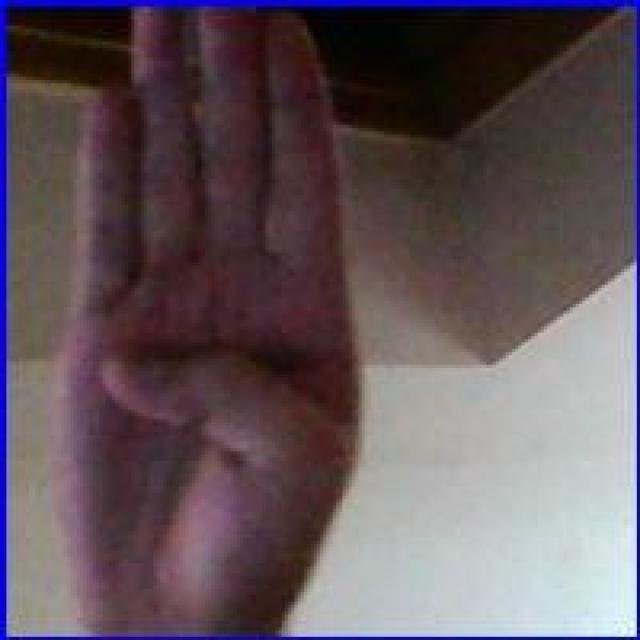B: (45, 8, 371, 622)
